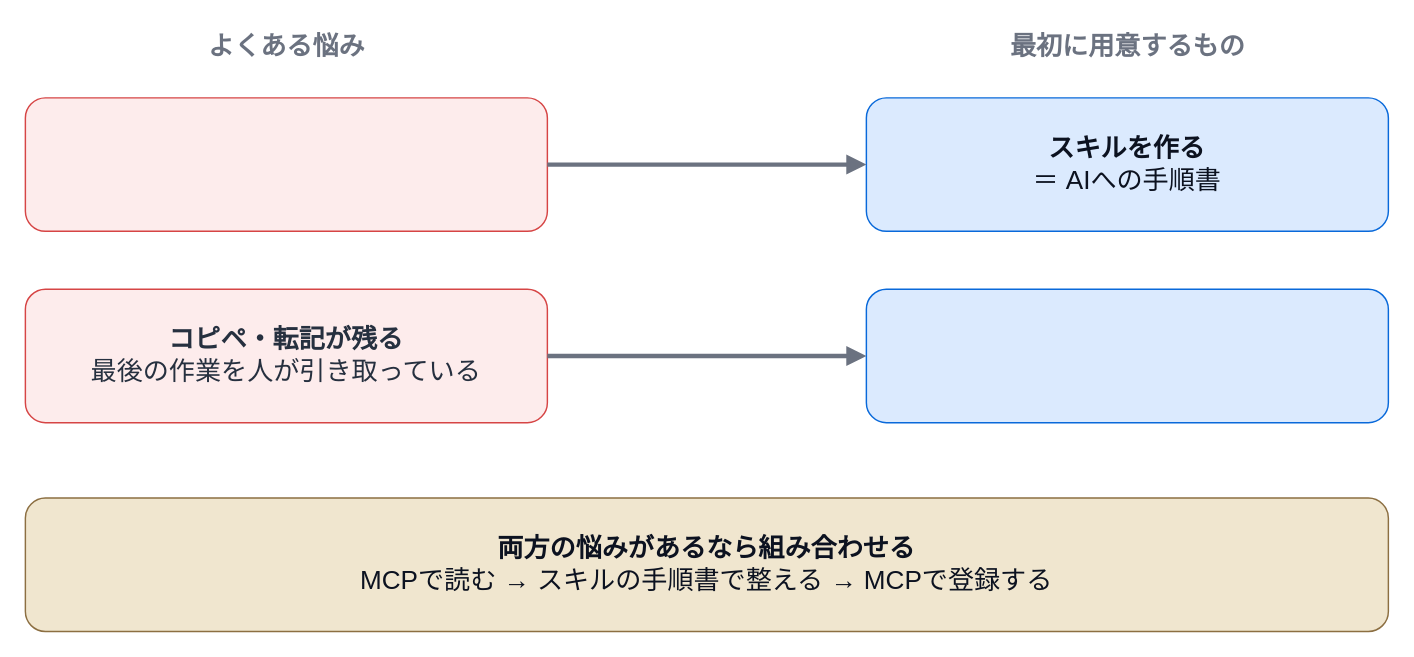
Image size: 1414x657. Some labels were removed from this diagram. Here are the shapes that lost their labels. From the top down, the centre of each, then its label:
the point at 285,163: 出力が毎回ぶれる 同じ依頼でも形式・品質が違う
the point at 1126,355: MCPでつなぐ ＝ 道具への接続口
